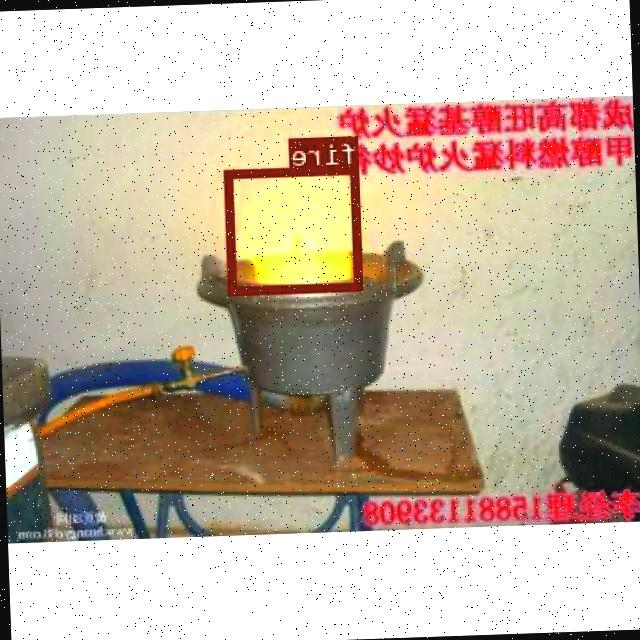fire: (226, 163, 364, 294)
